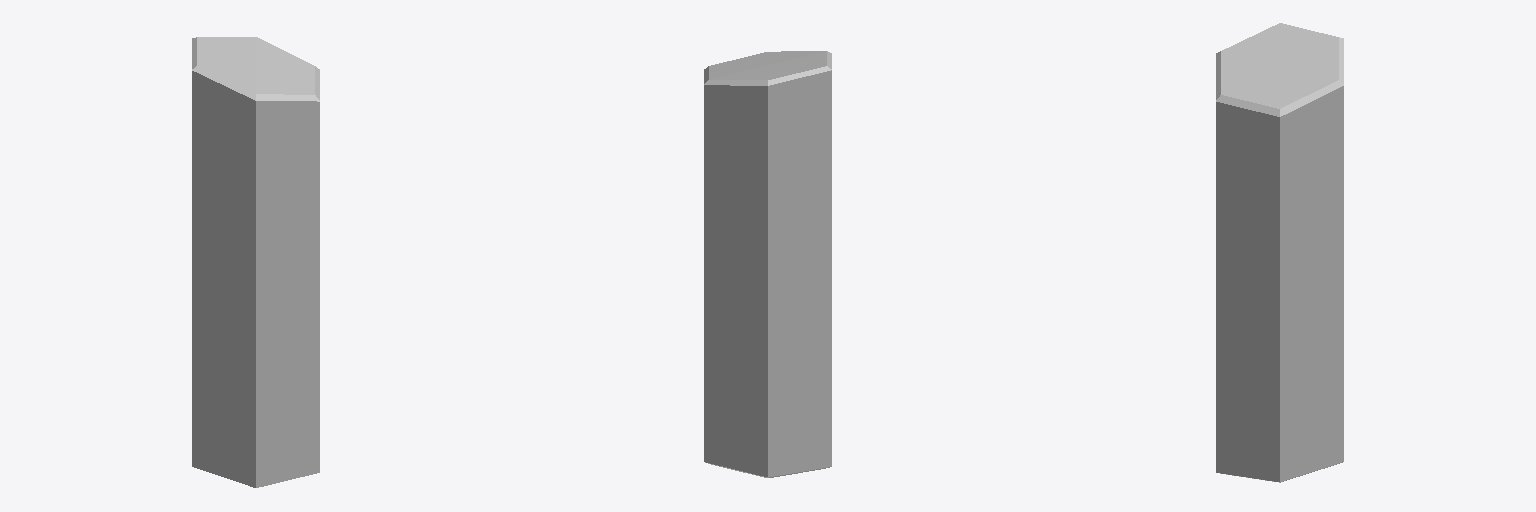
The model's file is Prism_Medium.obj.
The picture shows the model from 3 angles: view 1: azimuth 30°, elevation 25°; view 2: azimuth 150°, elevation 25°; view 3: azimuth 270°, elevation 25°; orthographic projection.
Parts seen in each view (by area): view 1: pCylinder87; view 2: pCylinder87; view 3: pCylinder87.
Boxes of the visible parts, box(x1,y1,x2,y2) form: pCylinder87: box(192, 37, 319, 487); pCylinder87: box(704, 51, 831, 477); pCylinder87: box(1216, 23, 1343, 482).
Bounding box in the file's own units: 0.3807 × 1.15 × 0.3297.